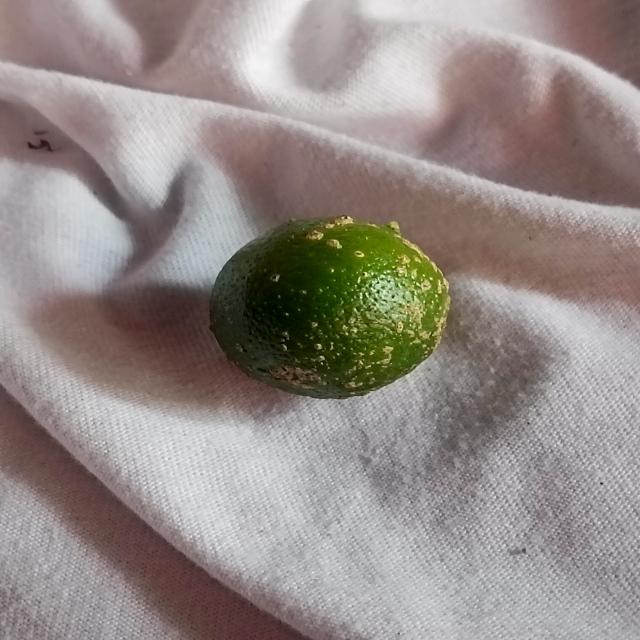scab: (216, 205, 452, 397)
